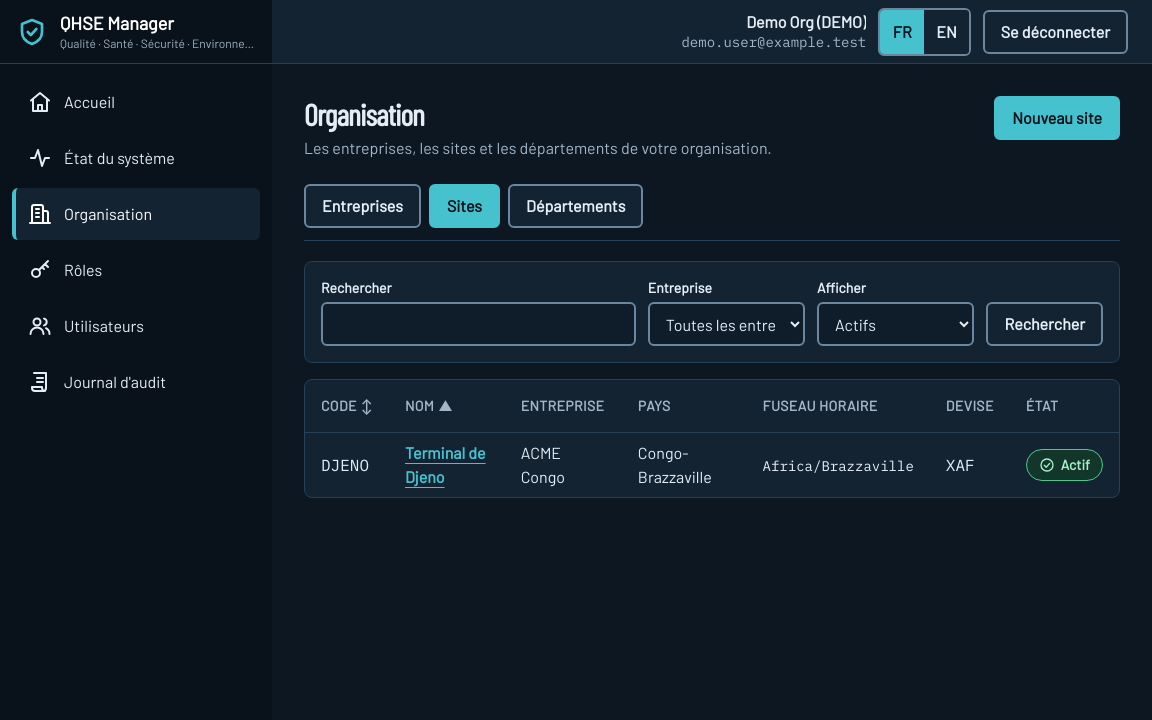
Test: organisation lists › shows a site with its company, country in the user language, time zone and currency
Check: the text "DJENO" is shown, box [321,455,369,475]
Check: the text "ACME Congo" is shown, box [505,432,622,497]
Click the button with aria-label "English".
click(947, 32)  # box [924,10,969,54]
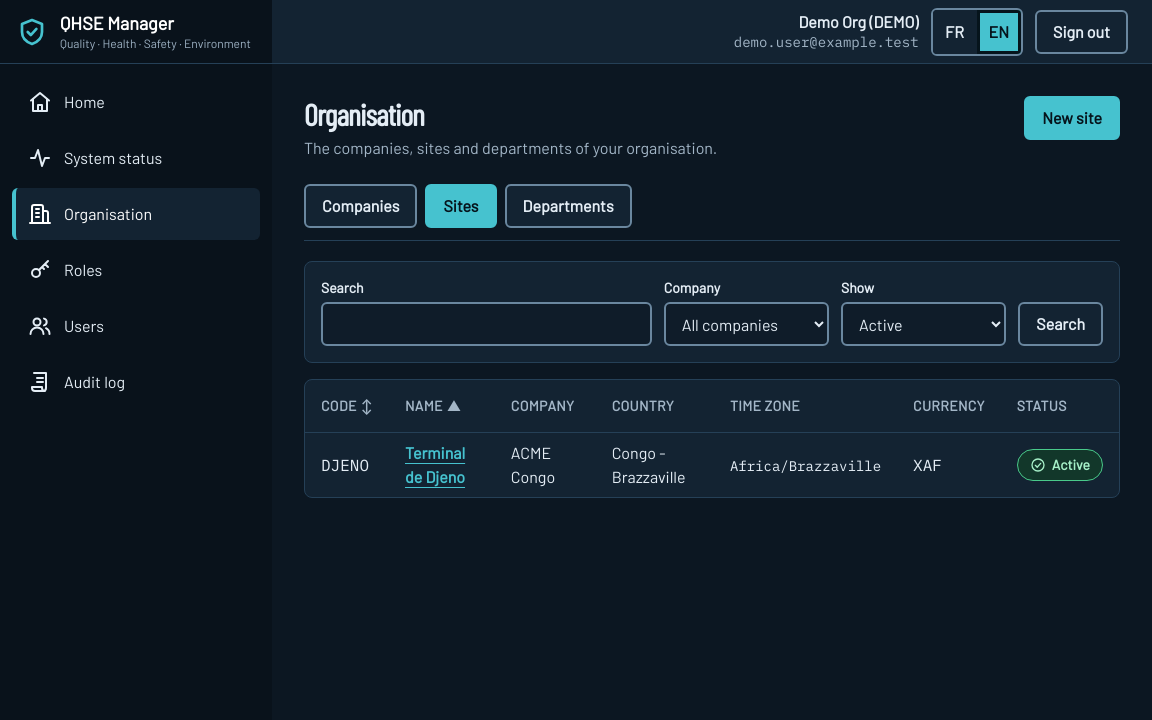
Check: the text "Congo - Brazzaville" is shown, box [596,432,714,497]
Check: the text "Active" is shown, box [1017,449,1103,481]
